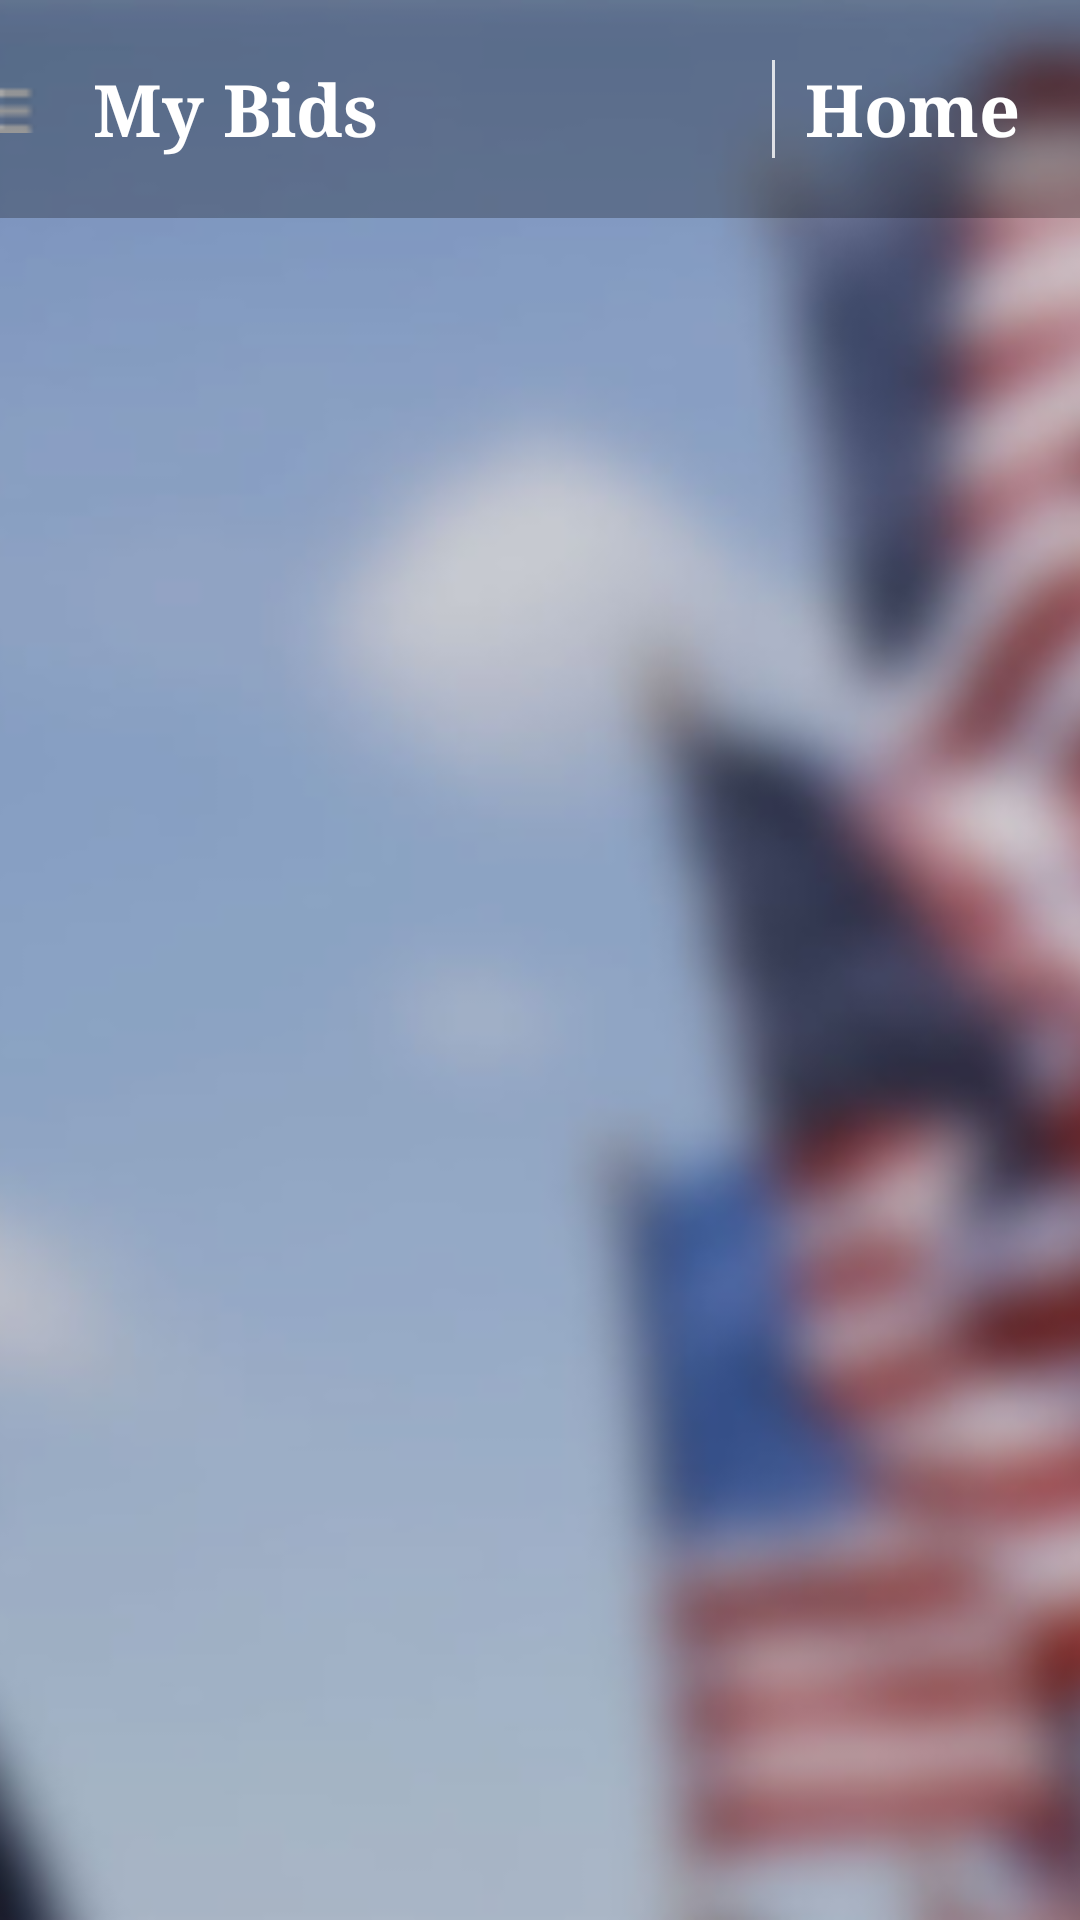

Icon bounding boxes for this 1080w x 1920h phone screenshot, format (x1, y1, x2, y2):
drawer: (0, 88, 31, 133)
